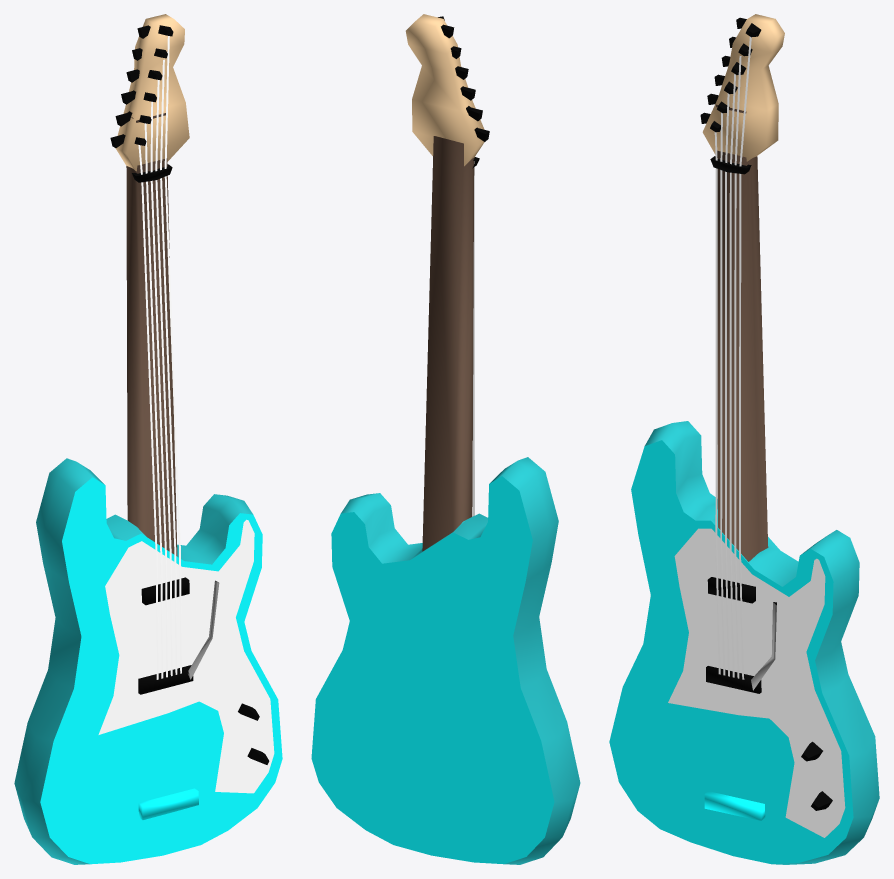
The model's file is GuitarElectricLightBlue.glb.
3 renders of one model, left to right at view 1: azimuth 30°, elevation 25°; view 2: azimuth 150°, elevation 25°; view 3: azimuth 330°, elevation 25°, orthographic.
Visible parts, largest first — view 1: GuitarElectricLightBlue; view 2: GuitarElectricLightBlue; view 3: GuitarElectricLightBlue.
Boxes of the visible parts, <box> form: GuitarElectricLightBlue: <box>14,14,282,864</box>; GuitarElectricLightBlue: <box>311,14,580,864</box>; GuitarElectricLightBlue: <box>609,14,879,864</box>.
Size of the model in its own units: 0.4159 by 1.31 by 0.1052.
Materials: 1 (1 with a texture image).
